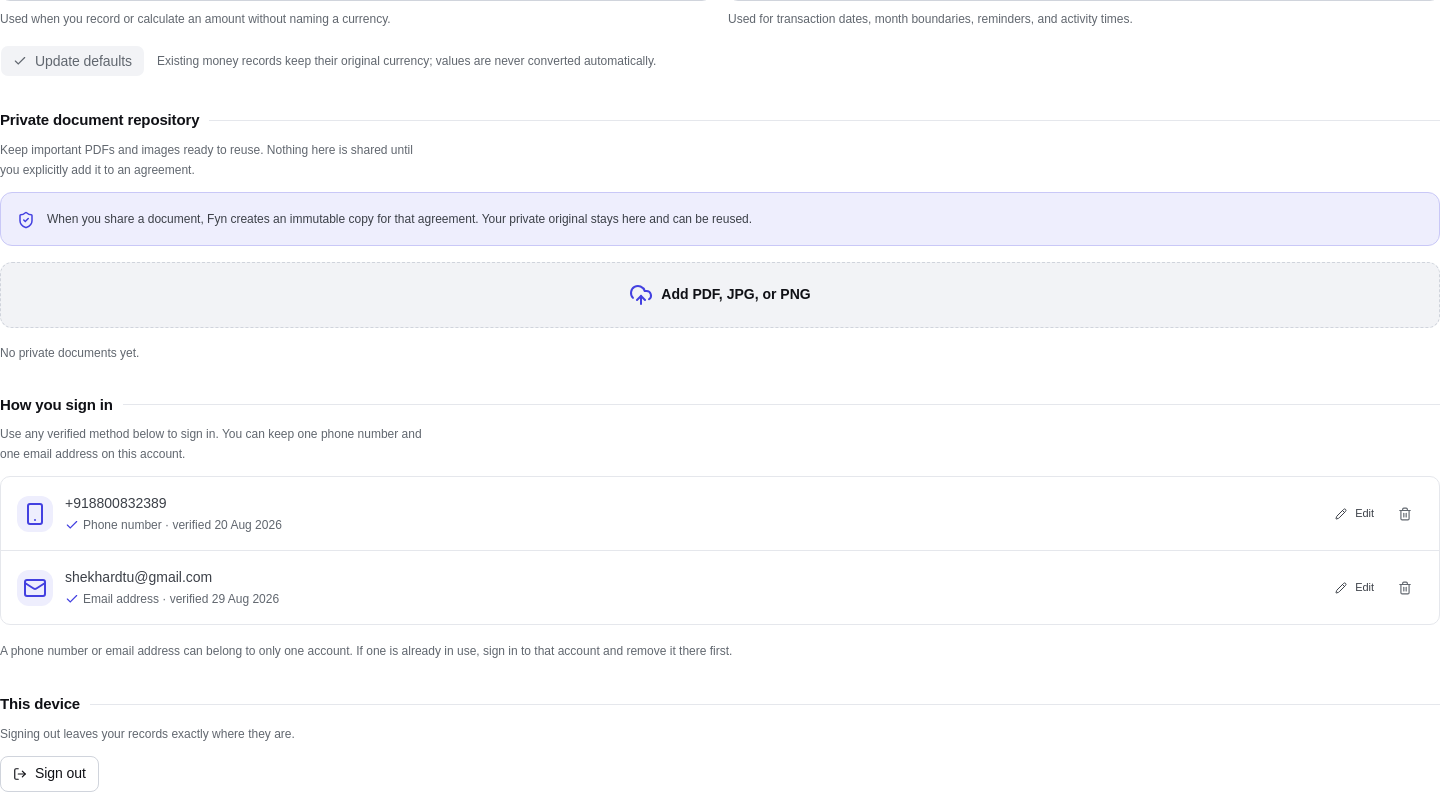
Scenario: ProfilePanel sign-in methods › edits each existing identifier from its row instead of showing detached change buttons
The width and height of the screenshot is (1440, 796).
(page scrolled)
Expected: the button with aria-label "Edit email address shekhardtu@gmail.com" is shown, [1326,574,1383,600]
Click the button with aria-label "Edit phone number +918800832389": (1355, 514) [1326,500,1383,526]
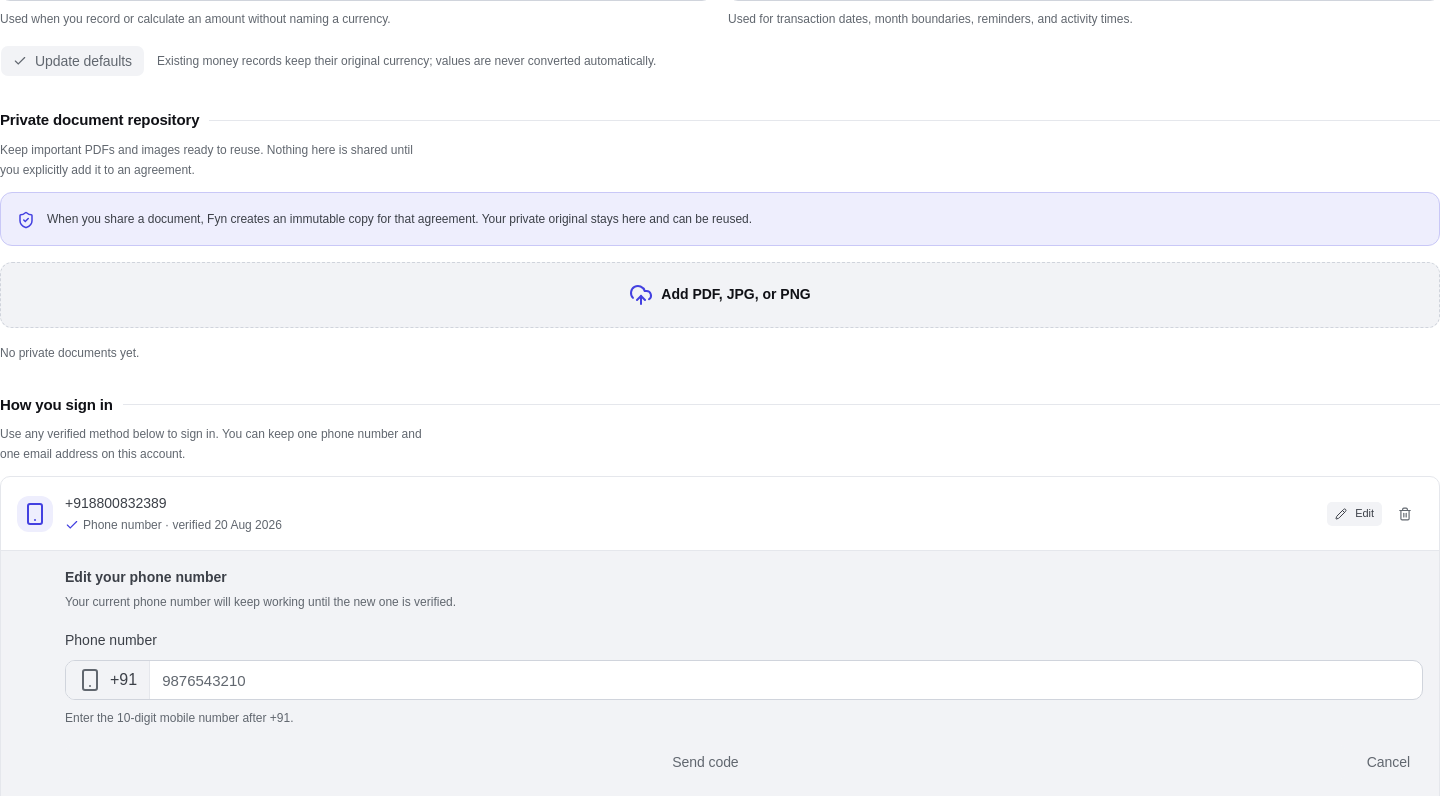
Now the text "Edit your phone number" is shown, box [65,569,227,585]
Now the text "Your current phone number will keep working until the new one is verified." is shown, box [65,595,456,609]
Now the button "Cancel" is shown, box [1354,744,1423,780]
